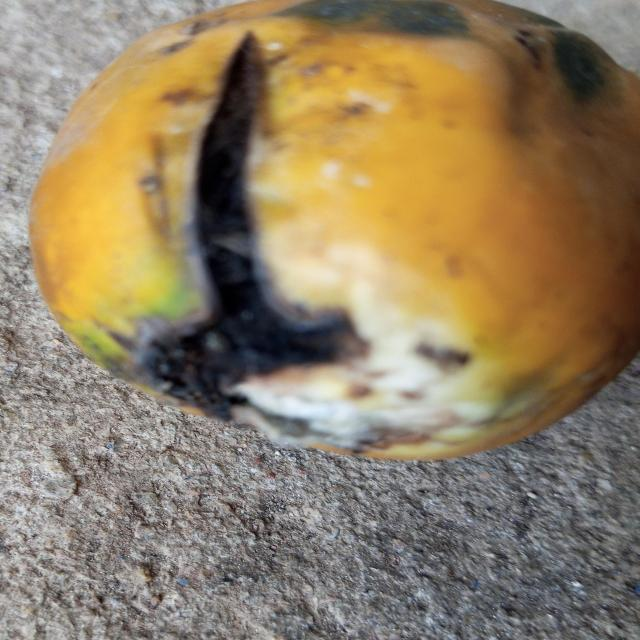damaged: (28, 0, 640, 465)
